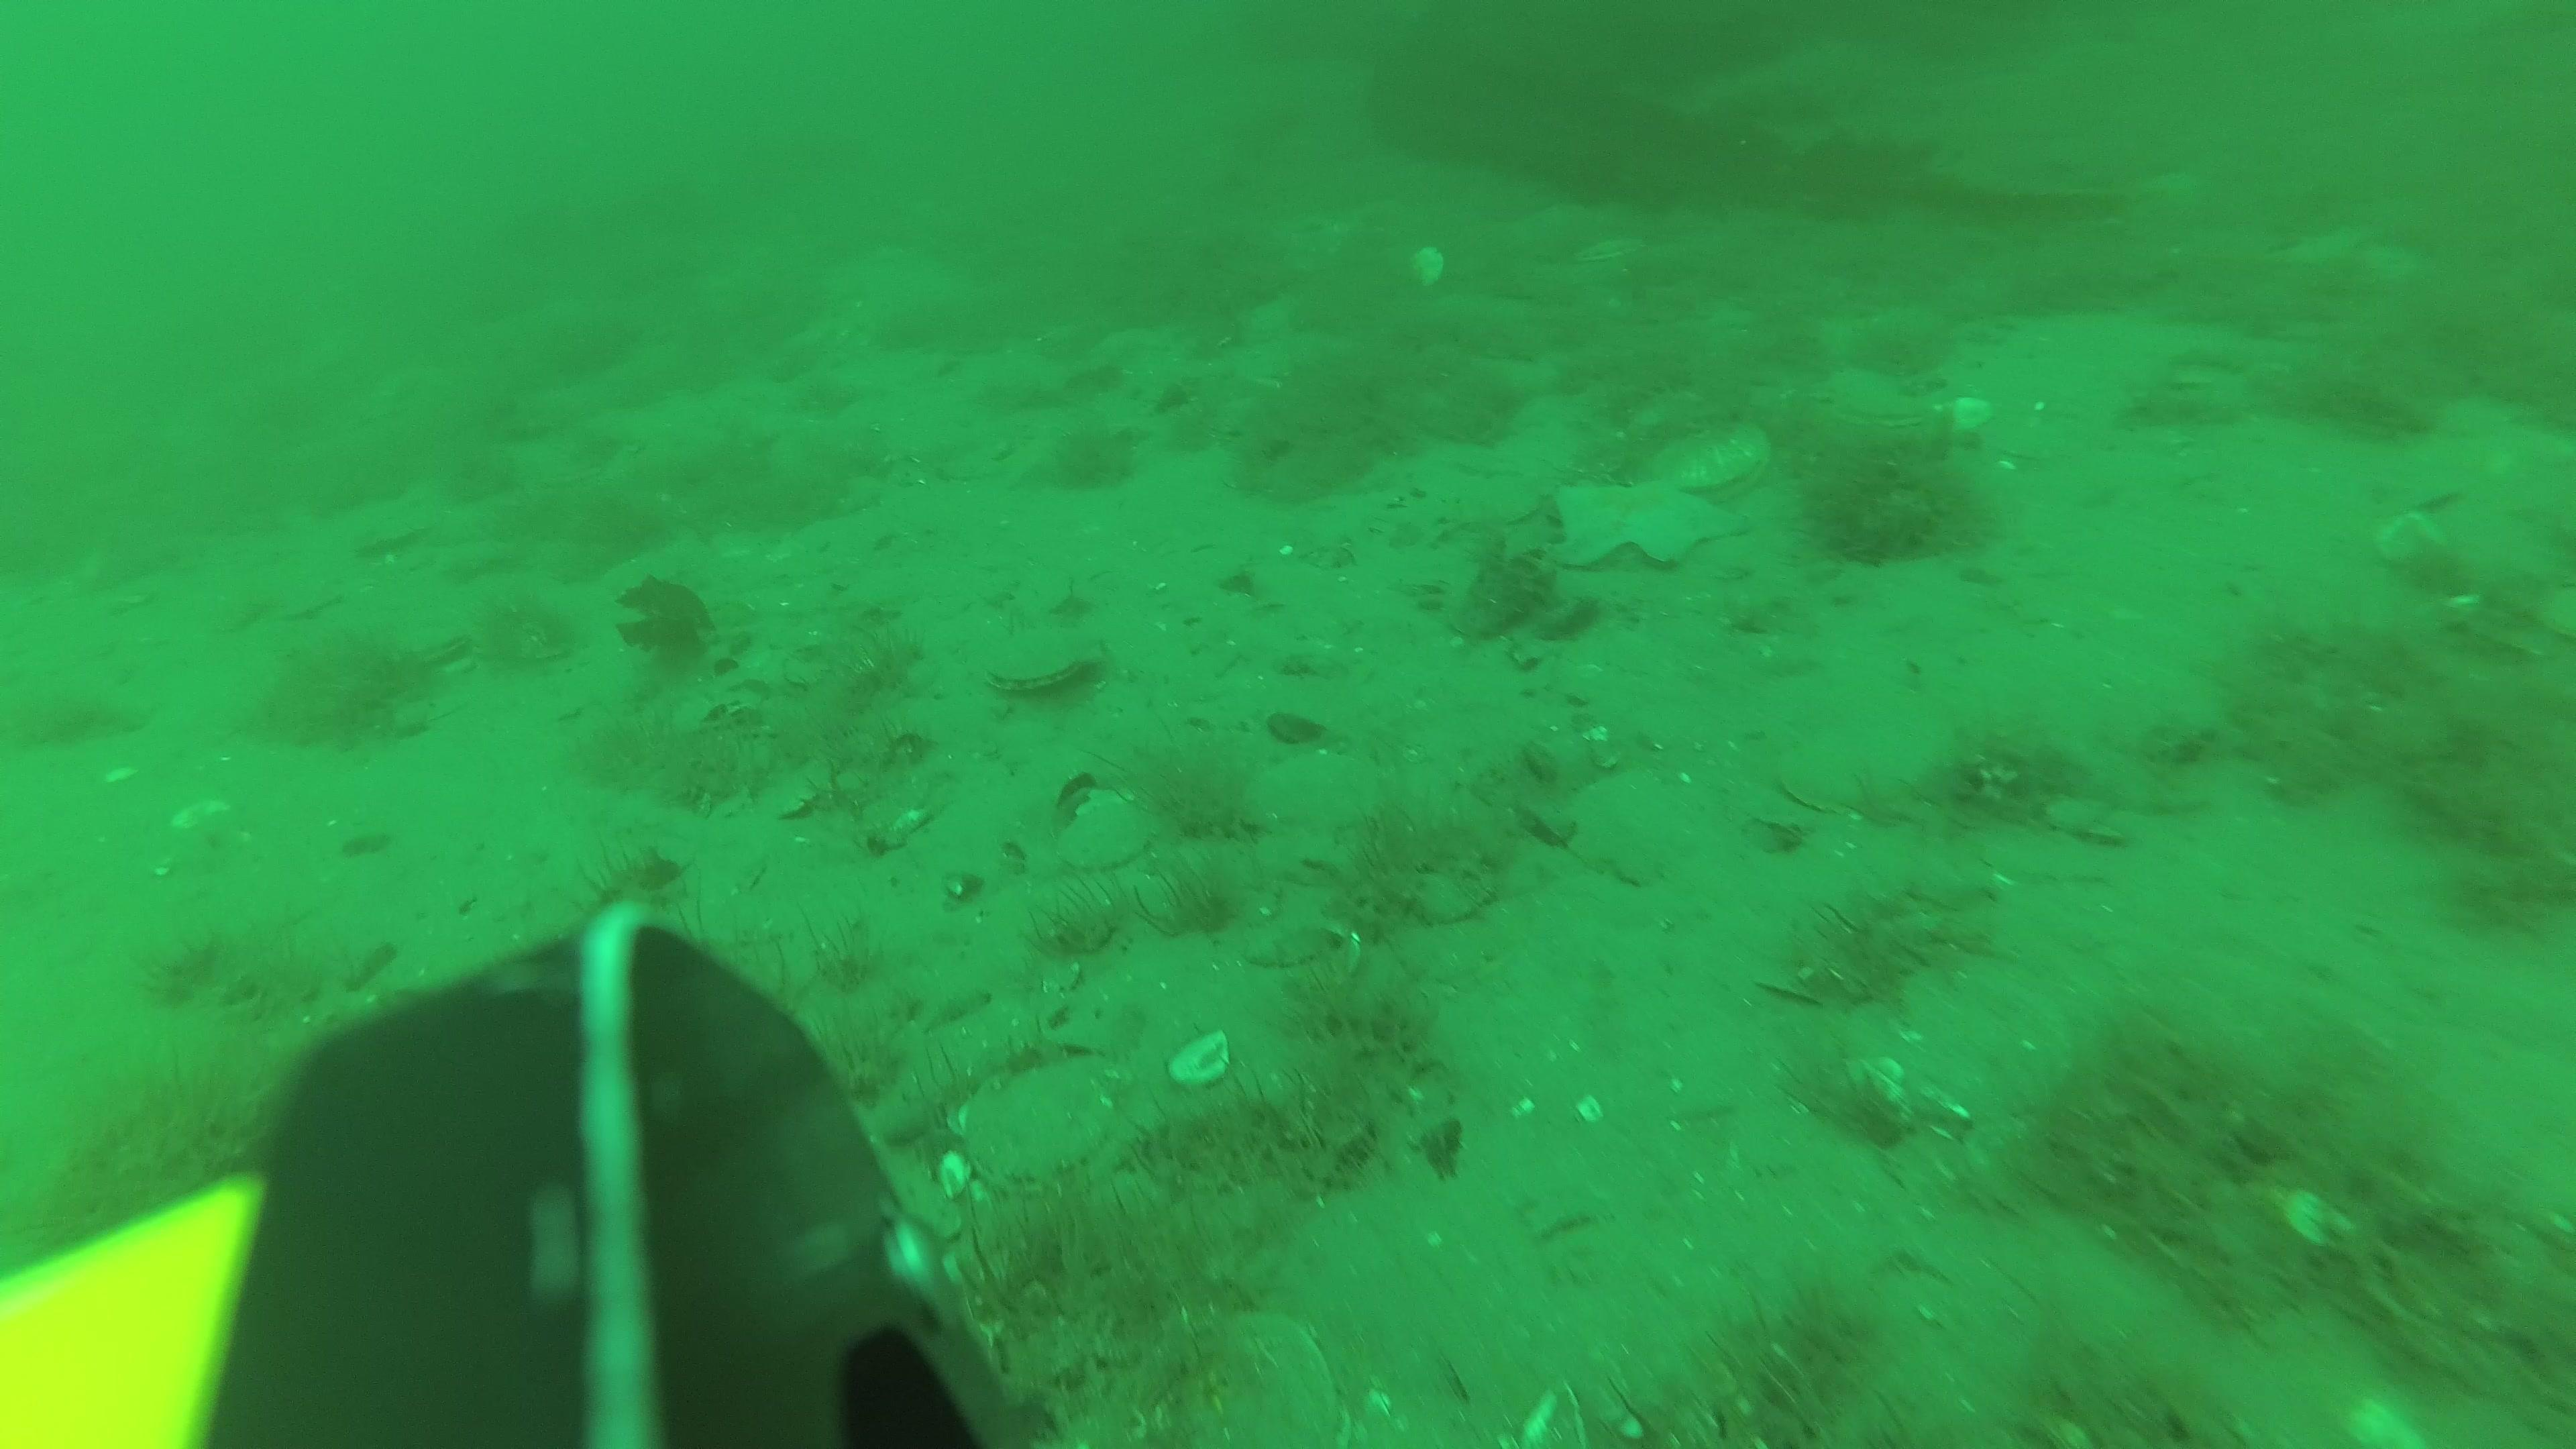scallop: (1095, 1307, 1357, 1449), (964, 1062, 1127, 1189), (1658, 414, 1771, 502), (991, 623, 1123, 697), (1803, 366, 1918, 425), (1566, 230, 1649, 264), (1412, 246, 1445, 287)
starfish: (1543, 474, 1748, 571)
